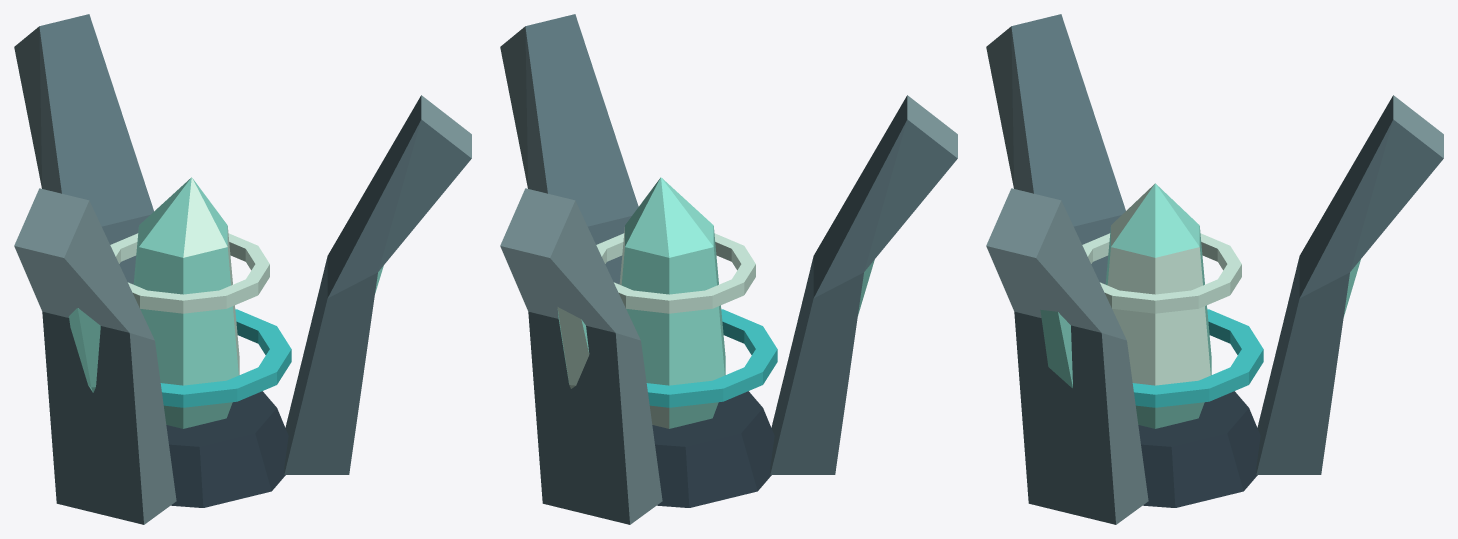
File: SM_ResonanceSite_Active.fbx
3 renders of one model, left to right at view 1: azimuth 30°, elevation 25°; view 2: azimuth 150°, elevation 25°; view 3: azimuth 270°, elevation 25°, orthographic.
Visible parts, largest first — view 1: SM_ResonanceSite_Active; view 2: SM_ResonanceSite_Active; view 3: SM_ResonanceSite_Active.
Boxes of the visible parts, x1=… form: SM_ResonanceSite_Active: x1=14, y1=14, x2=471, y2=524; SM_ResonanceSite_Active: x1=500, y1=14, x2=957, y2=524; SM_ResonanceSite_Active: x1=986, y1=14, x2=1443, y2=524.
Size of the model in its own units: 73.28 by 63.46 by 54.
